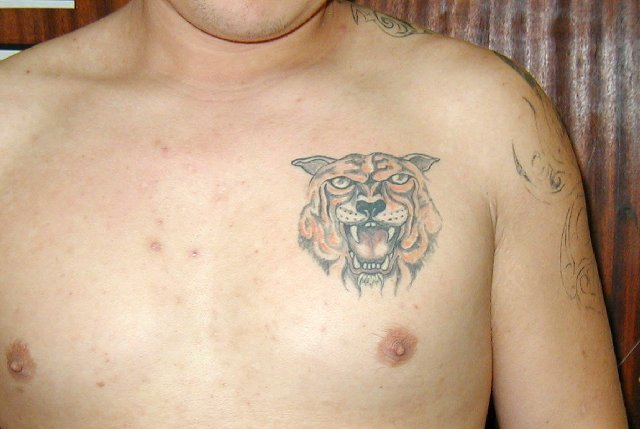tatu5_tigr: (284, 150, 446, 301)
